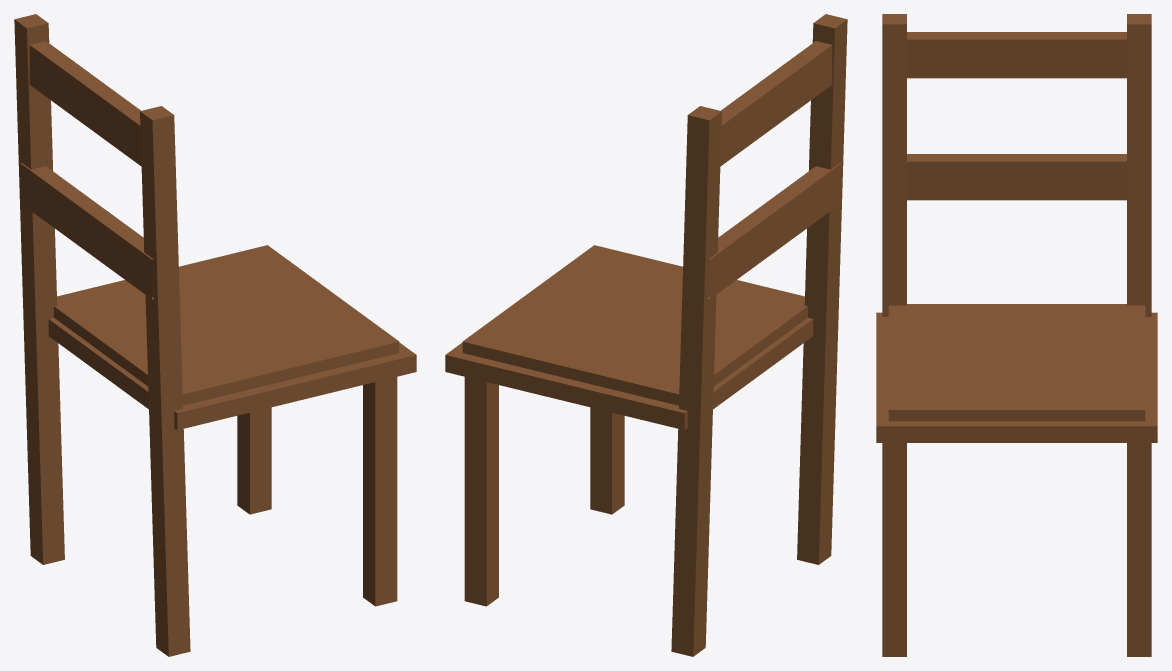
File: parametric-chair-service.glb
3 views of the same model, side by side, from view 1: azimuth 30°, elevation 25°; view 2: azimuth 150°, elevation 25°; view 3: azimuth 270°, elevation 25° (orthographic). The views are drawn at different scales.
Parts seen in each view (by area): view 1: parametric-chair-service; view 2: parametric-chair-service; view 3: parametric-chair-service.
Part boxes in pixels (x1,y1,x2,y2): parametric-chair-service: (14,14,416,656); parametric-chair-service: (445,14,847,656); parametric-chair-service: (876,14,1157,656).
Size of the model in its own units: 0.48 by 0.95 by 0.46.
